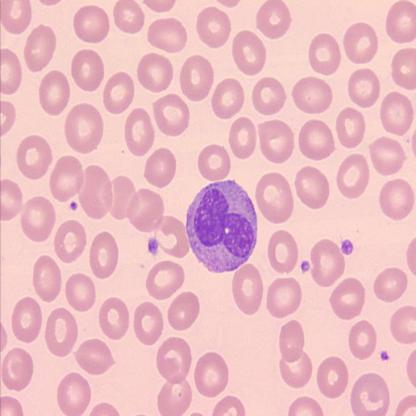Monocyte: (185, 177, 259, 275)
